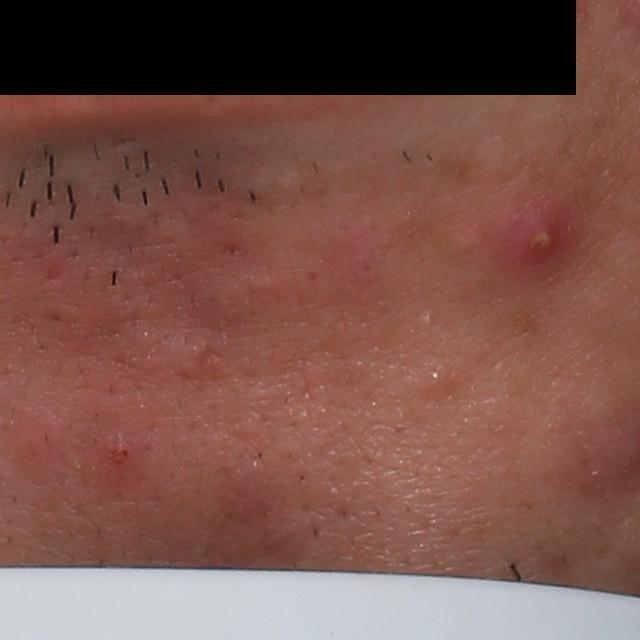comedo: (425, 367, 452, 394)
hypertrophic_scar: (108, 320, 234, 387), (191, 269, 298, 328)
papule: (95, 422, 144, 481)
pustule: (503, 203, 578, 279)
